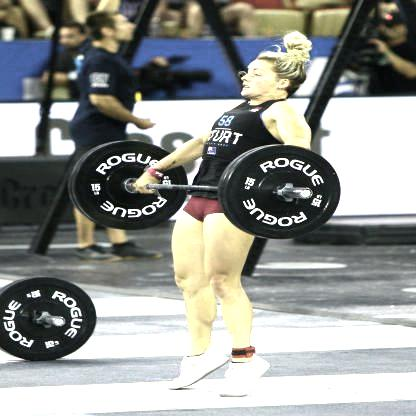barbell: (224, 145, 343, 241), (73, 141, 190, 231), (1, 276, 98, 364)
